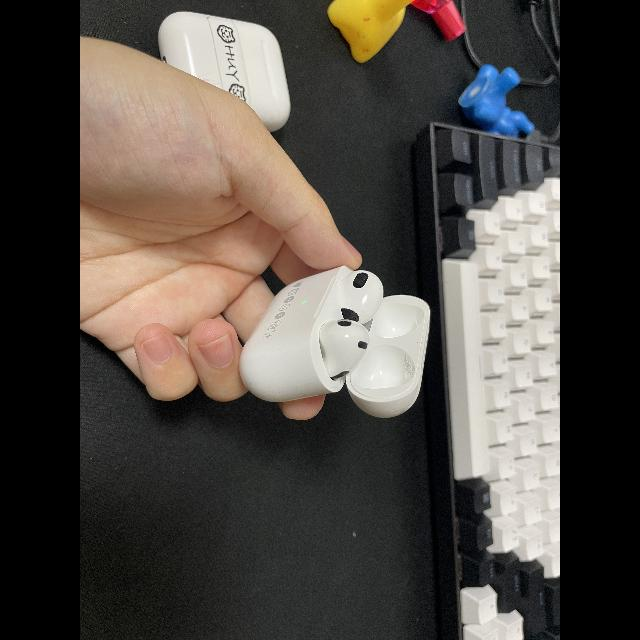airpod2: (147, 6, 303, 136)
airpod3: (240, 248, 430, 422)
